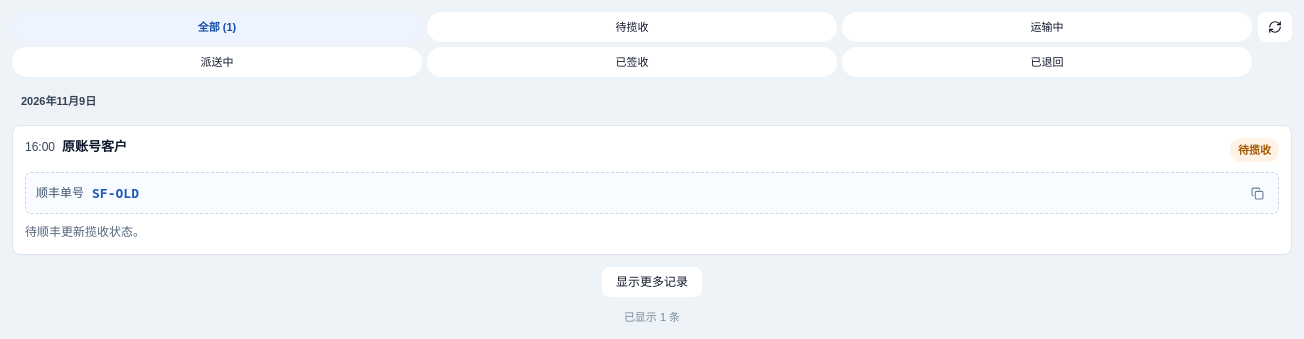
it: clears previously loaded owner records when a list refresh returns 401
Expected: the list item with aria-label "提报 OLD" is shown, 12,125 -> 1292,255
Expected: the button "显示更多记录" is shown, 602,267 -> 702,297
Click the button named "刷新提报记录" at [1275, 27], box 1258,12 -> 1292,42
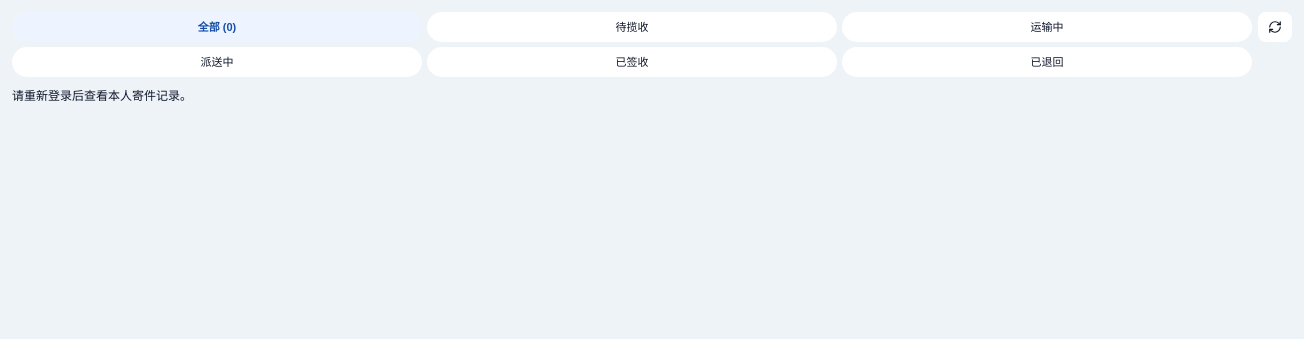
Expected: the message "请重新登录后查看本人寄件记录。" is shown, 12,89 -> 192,103
Expected: the text "原账号客户" is gone
Expected: the button "显示更多记录" is gone
Click the button named "刷新提报记录" at [1275, 27], box 1258,12 -> 1292,42
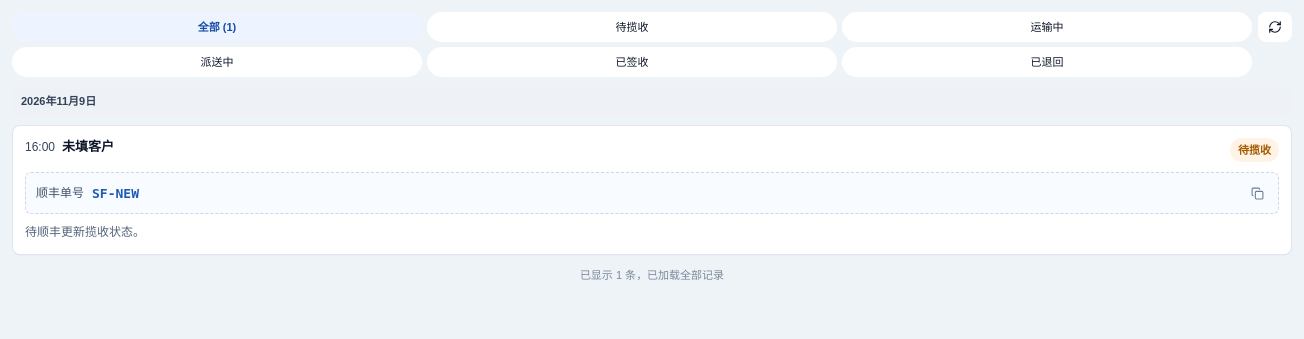
Expected: the list item with aria-label "提报 NEW" is shown, 12,125 -> 1292,255
